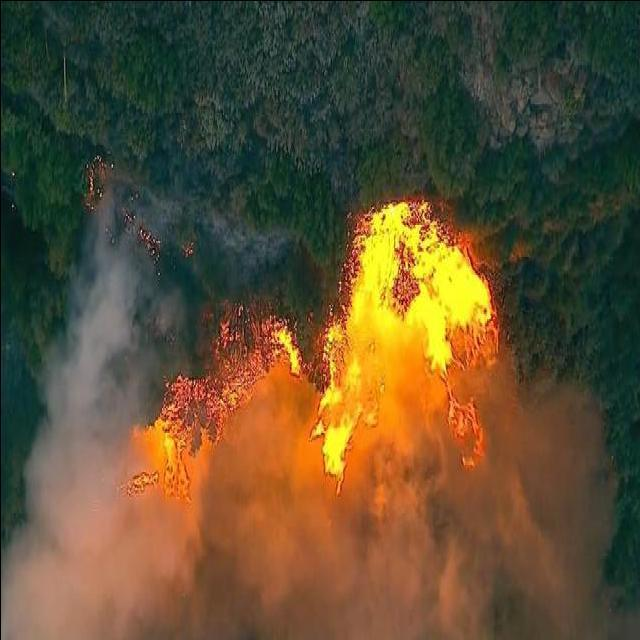Fire: (136, 208, 488, 503)
